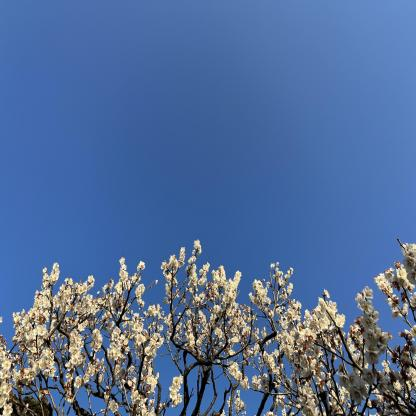Ume: (0, 237, 416, 416)
